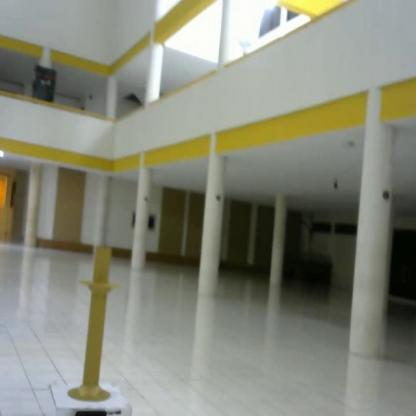pole: (67, 238, 122, 409)
